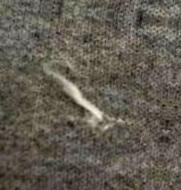snag: (43, 62, 111, 130)
